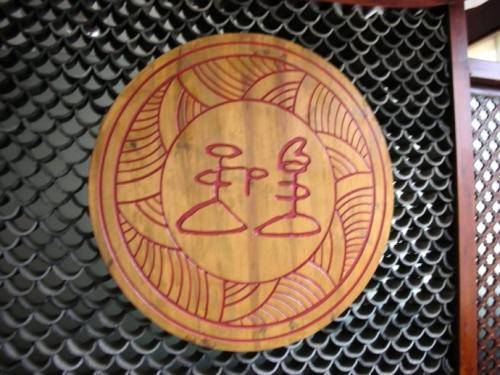naxi: (180, 133, 325, 239)
